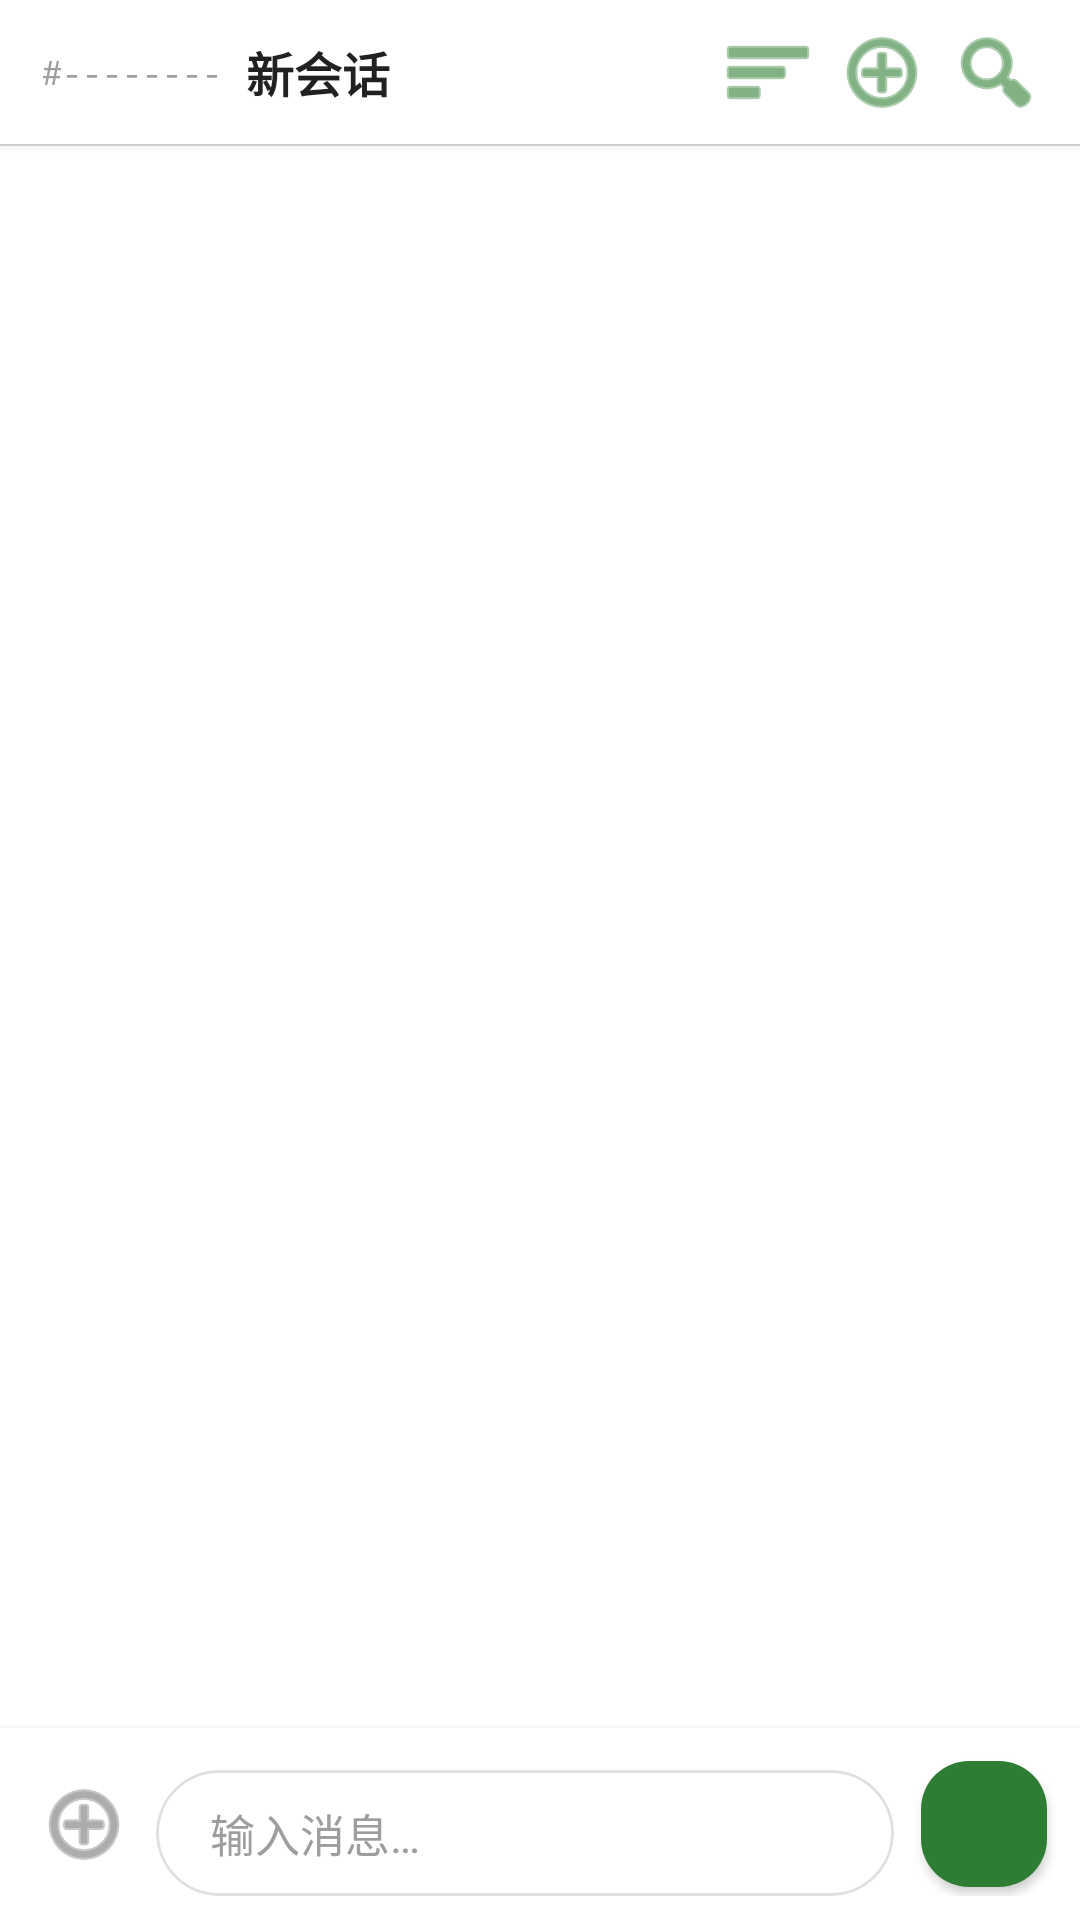

Where to tap for icons on this 1080px×1920px app screen, as (x,y):
Search Memory: (996,72)
会话列表: (768,72)
新建会话: (882,72)
添加附件: (84,1824)
